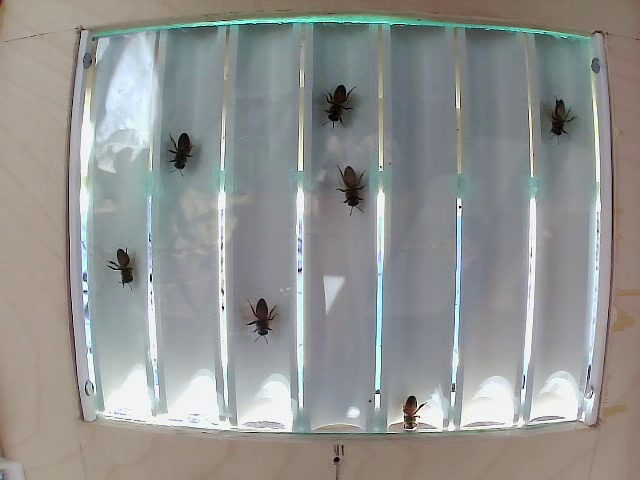bee: (229, 285, 295, 344), (319, 159, 379, 220), (310, 66, 363, 131), (154, 121, 195, 180), (533, 99, 588, 142), (98, 245, 142, 289)
